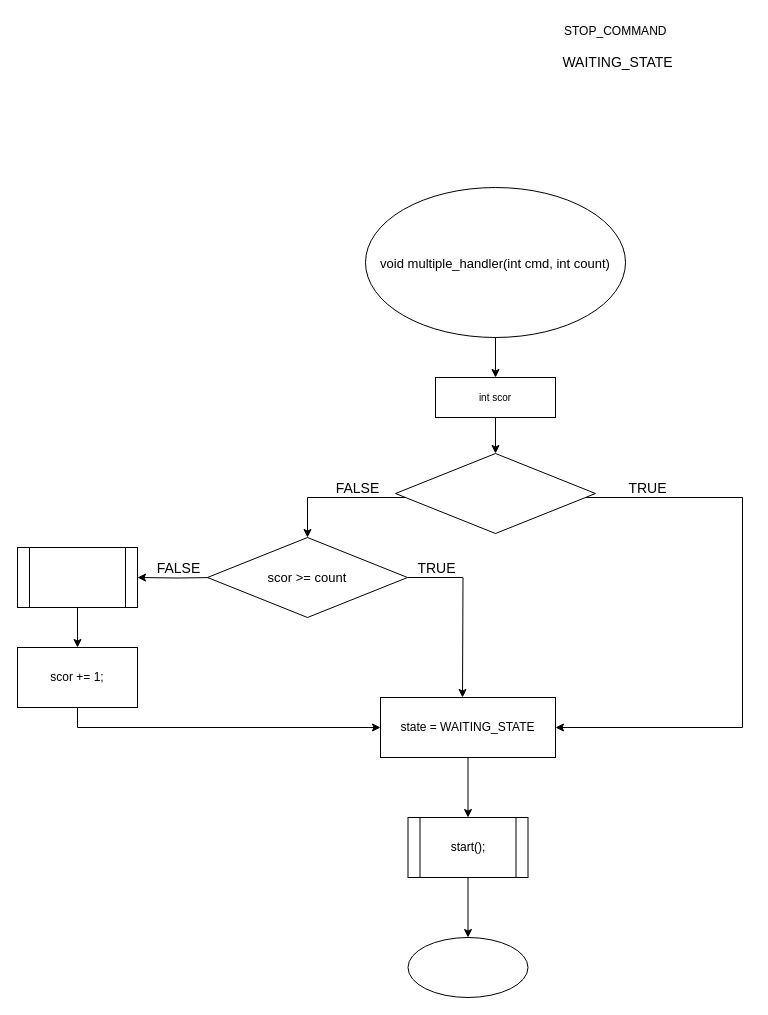
The diagram is 768 pixels wide and 1015 high, and some of its shapes have lost their labels. The shapes that lost their labels are listed below. From the top down, each one's centre as x and y in pixels, then its label:
point (495, 493): cmd == STOP_COMMAND
point (77, 577): cycle();
point (467, 967): return;
